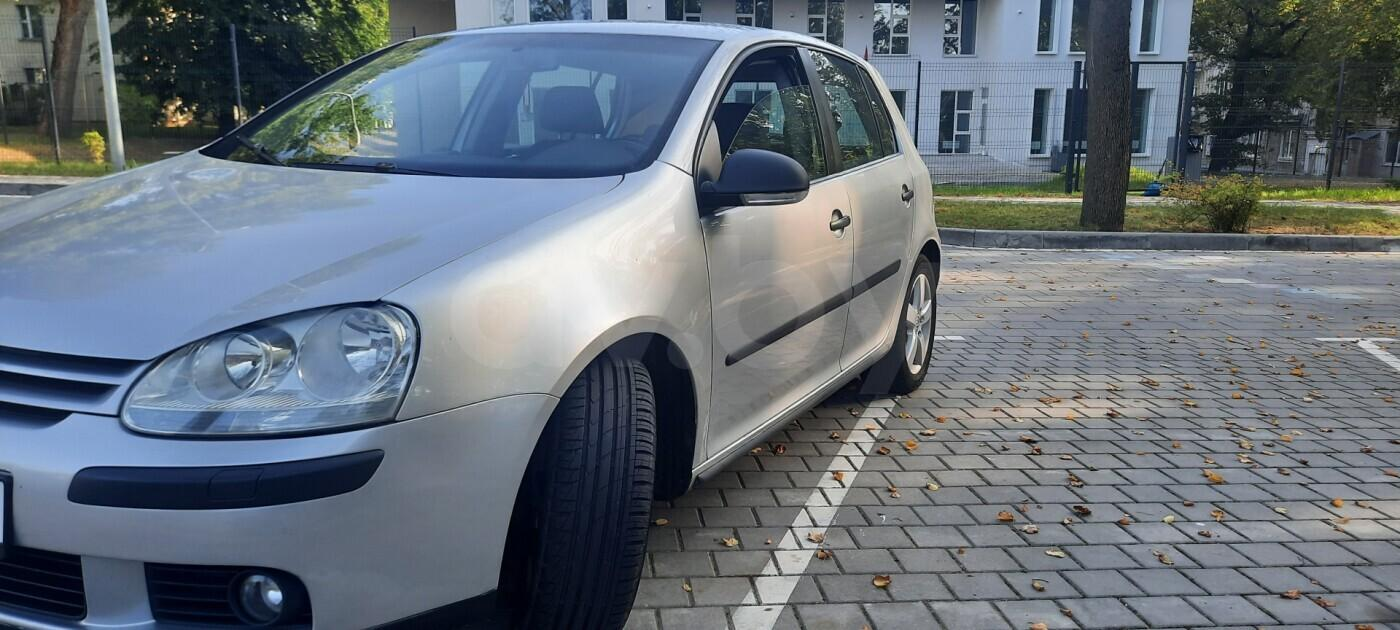Golf_2003-2009: (0, 17, 942, 630)
